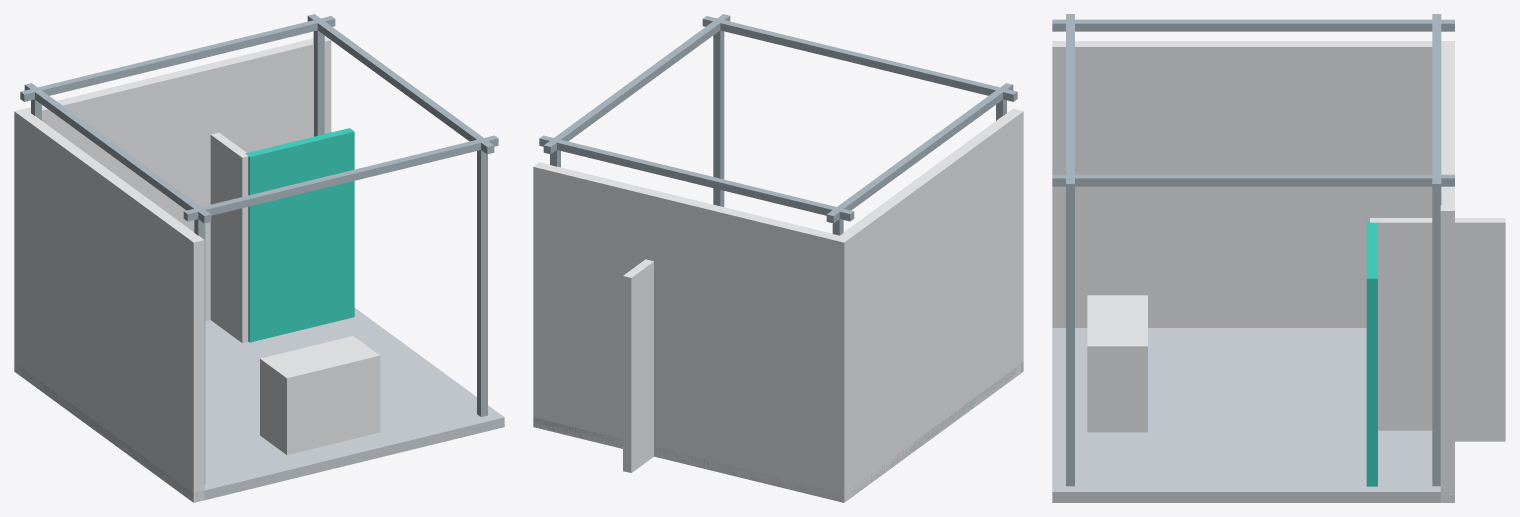
3 renders of one model, left to right at view 1: azimuth 30°, elevation 25°; view 2: azimuth 150°, elevation 25°; view 3: azimuth 270°, elevation 25°, orthographic. The views are drawn at different scales.
Visible parts, largest first — view 1: Exhibition Booth Concept; view 2: Exhibition Booth Concept; view 3: Exhibition Booth Concept.
Part boxes in pixels (x1,y1,x2,y2): Exhibition Booth Concept: (14, 14, 504, 502); Exhibition Booth Concept: (533, 14, 1023, 502); Exhibition Booth Concept: (1052, 14, 1505, 502).
Bounding box in the file's own units: 4 × 3.49 × 4.51.
